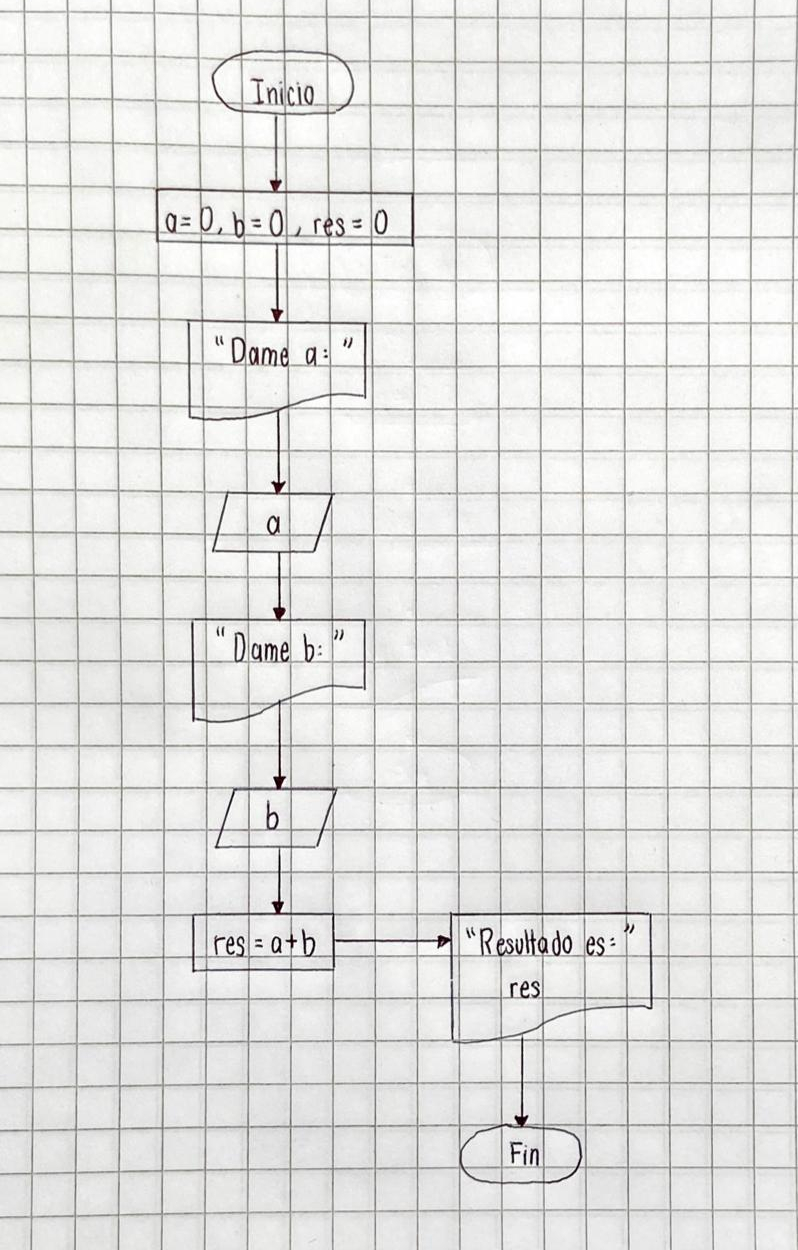arrow_line_down: (503, 1029, 540, 1131), (263, 697, 295, 797), (259, 410, 293, 501), (259, 548, 295, 623), (259, 240, 290, 323), (265, 112, 293, 195), (267, 840, 291, 914)
arrow_line_right: (324, 918, 454, 961)
print: (442, 897, 659, 1053), (174, 308, 386, 425), (180, 612, 378, 725)
process: (144, 178, 431, 257), (178, 904, 342, 978)
scan: (193, 482, 350, 559), (205, 780, 344, 863)
start_end: (203, 40, 369, 125), (452, 1116, 597, 1193)
